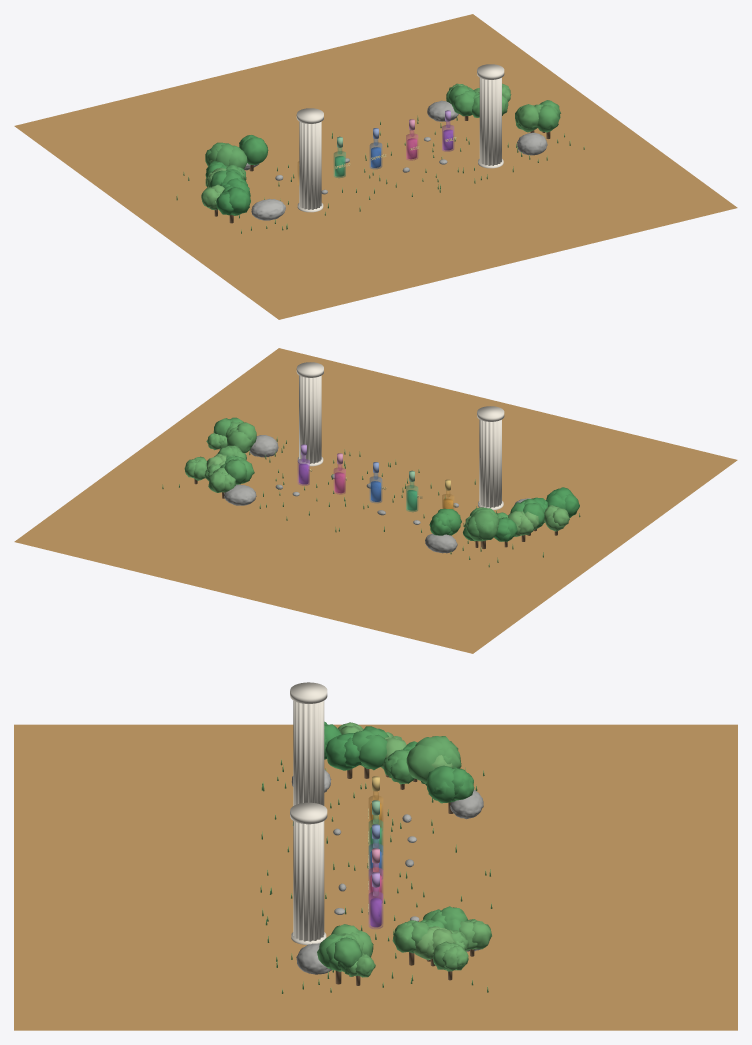
The model's file is nur.glb.
3 renders of one model, top to bottom at view 1: azimuth 30°, elevation 25°; view 2: azimuth 150°, elevation 25°; view 3: azimuth 270°, elevation 25°, orthographic. The views are drawn at different scales.
Visible parts, largest first — view 1: Lantai_Reflektif, Pilar_Kiri, Pilar_Kanan, Pohon_Daun_0.004, Pohon_Daun_0, Pohon_Daun_0.017, Pohon_Daun_0.016, Pohon_Daun_0.013, Batu.002, Pohon_Daun_0.012, Batu.003; view 2: Lantai_Reflektif, Pilar_Kiri, Pilar_Kanan, Pohon_Daun_0, Pohon_Daun_0.012, Pohon_Daun_0.016, Pohon_Daun_0.004, Pohon_Daun_0.017, Pohon_Daun_0.003, Batu.001, Pohon_Daun_0.007, Pohon_Daun_0.018 (+2 smaller); view 3: Lantai_Reflektif, Pilar_Kanan, Pilar_Kiri, Pohon_Daun_0, Pohon_Daun_0.016, Pohon_Daun_0.013, Pohon_Daun_0.006, Pohon_Daun_0.005, Pohon_Daun_0.008, Pohon_Daun_0.010, Pohon_Daun_0.018, Pohon_Daun_0.009 (+5 smaller).
Boxes of the visible parts, left/top/right/bottom form: Lantai_Reflektif: left=14, top=14, right=737, bottom=319; Pilar_Kiri: left=296, top=108, right=323, bottom=212; Pilar_Kanan: left=477, top=64, right=504, bottom=168; Pohon_Daun_0.004: left=216, top=186, right=250, bottom=215; Pohon_Daun_0: left=205, top=142, right=247, bottom=168; Pohon_Daun_0.017: left=448, top=85, right=475, bottom=116; Pohon_Daun_0.016: left=239, top=135, right=268, bottom=164; Pohon_Daun_0.013: left=537, top=100, right=560, bottom=132; Batu.002: left=251, top=199, right=285, bottom=220; Pohon_Daun_0.012: left=515, top=104, right=543, bottom=132; Batu.003: left=517, top=132, right=547, bottom=155; Lantai_Reflektif: left=14, top=348, right=737, bottom=653; Pilar_Kiri: left=477, top=406, right=504, bottom=510; Pilar_Kanan: left=296, top=362, right=323, bottom=466; Pohon_Daun_0: left=466, top=507, right=499, bottom=540; Pohon_Daun_0.012: left=226, top=421, right=256, bottom=452; Pohon_Daun_0.016: left=429, top=508, right=461, bottom=535; Pohon_Daun_0.004: left=546, top=487, right=579, bottom=517; Pohon_Daun_0.017: left=220, top=459, right=254, bottom=484; Pohon_Daun_0.003: left=508, top=511, right=539, bottom=536; Batu.001: left=224, top=484, right=256, bottom=505; Pohon_Daun_0.007: left=544, top=505, right=569, bottom=531; Pohon_Daun_0.018: left=208, top=467, right=235, bottom=492; Lantai_Reflektif: left=14, top=724, right=737, bottom=1030; Pilar_Kanan: left=290, top=802, right=327, bottom=944; Pilar_Kiri: left=290, top=682, right=327, bottom=805; Pohon_Daun_0: left=406, top=736, right=461, bottom=783; Pohon_Daun_0.016: left=427, top=765, right=474, bottom=803; Pohon_Daun_0.013: left=317, top=934, right=362, bottom=971; Pohon_Daun_0.006: left=352, top=726, right=388, bottom=770; Pohon_Daun_0.005: left=325, top=733, right=361, bottom=770; Pohon_Daun_0.008: left=432, top=941, right=468, bottom=971; Pohon_Daun_0.010: left=392, top=920, right=430, bottom=953; Pohon_Daun_0.018: left=459, top=919, right=491, bottom=950; Pohon_Daun_0.009: left=413, top=926, right=455, bottom=960.
Size of the model in its own units: 28 by 5.7 by 28.
